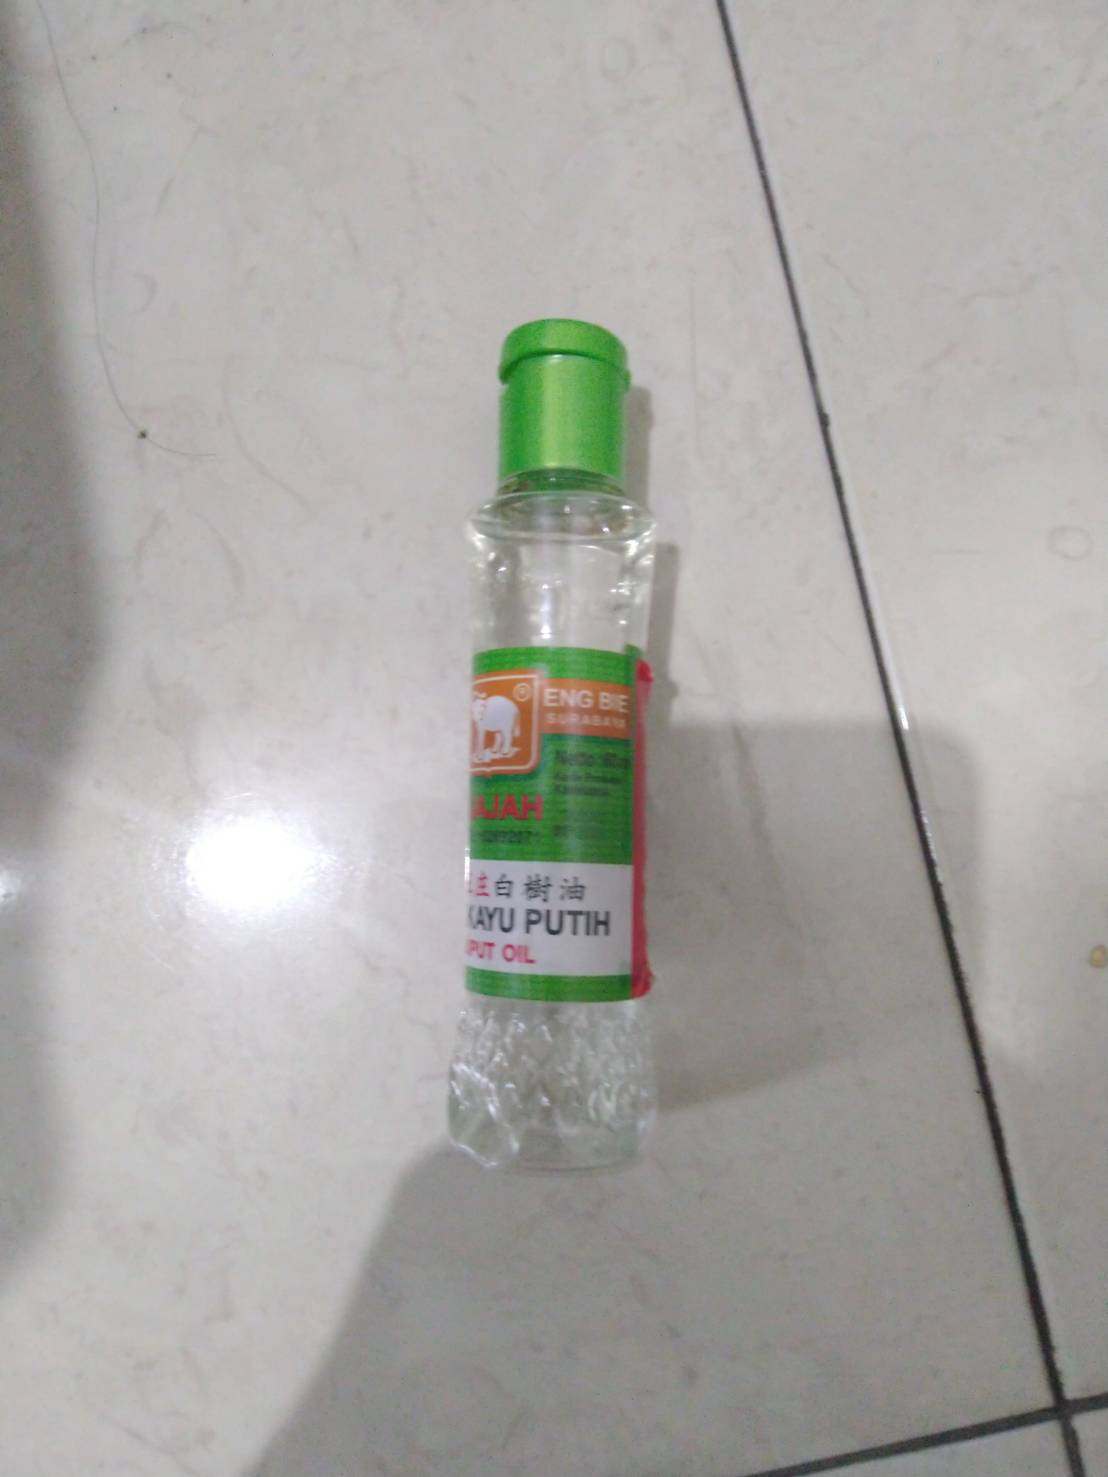HDPE: (493, 319, 632, 478)
PET: (456, 485, 658, 1164)
